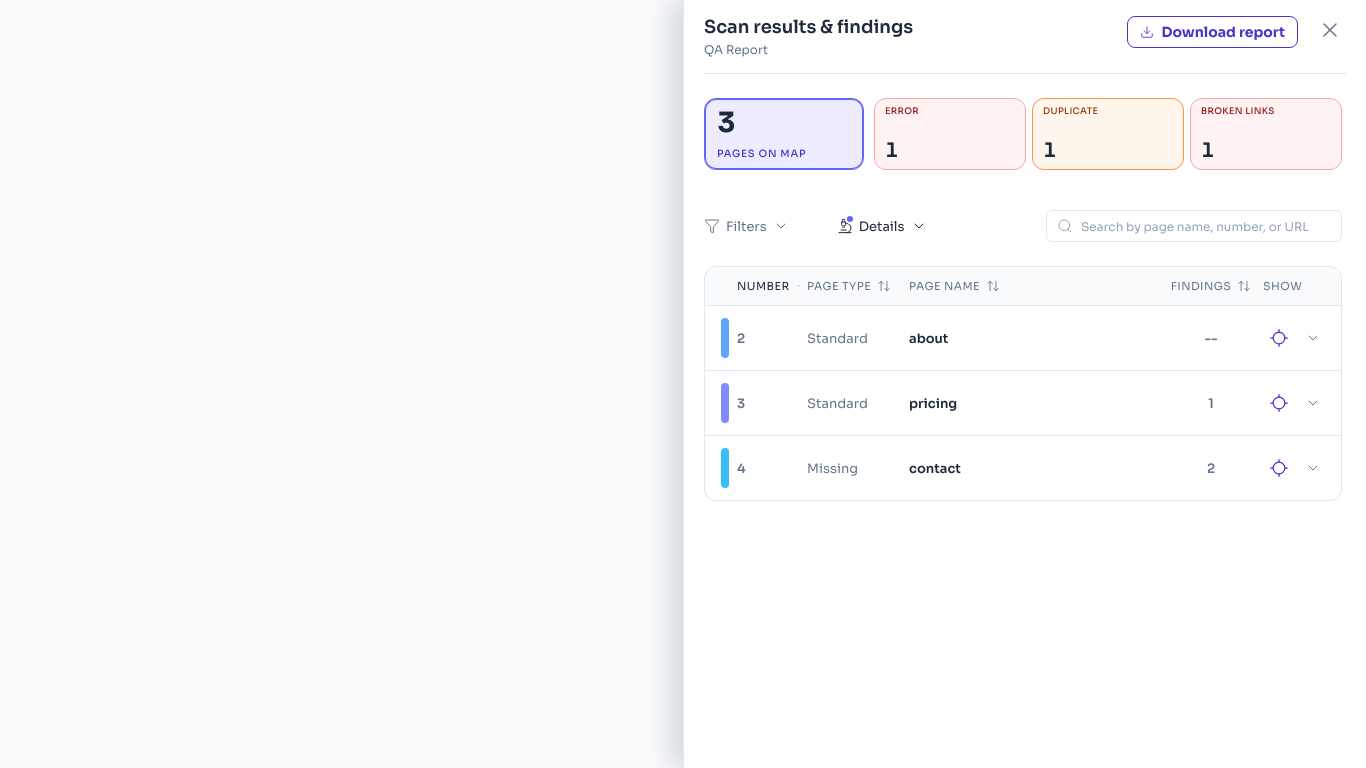
Test: ReportDrawer › filters image-backed rows from the shared filter menu
Click the button with class "report-filter-toggle" showing "Filters" at (746, 226), box [704,218,789,234]
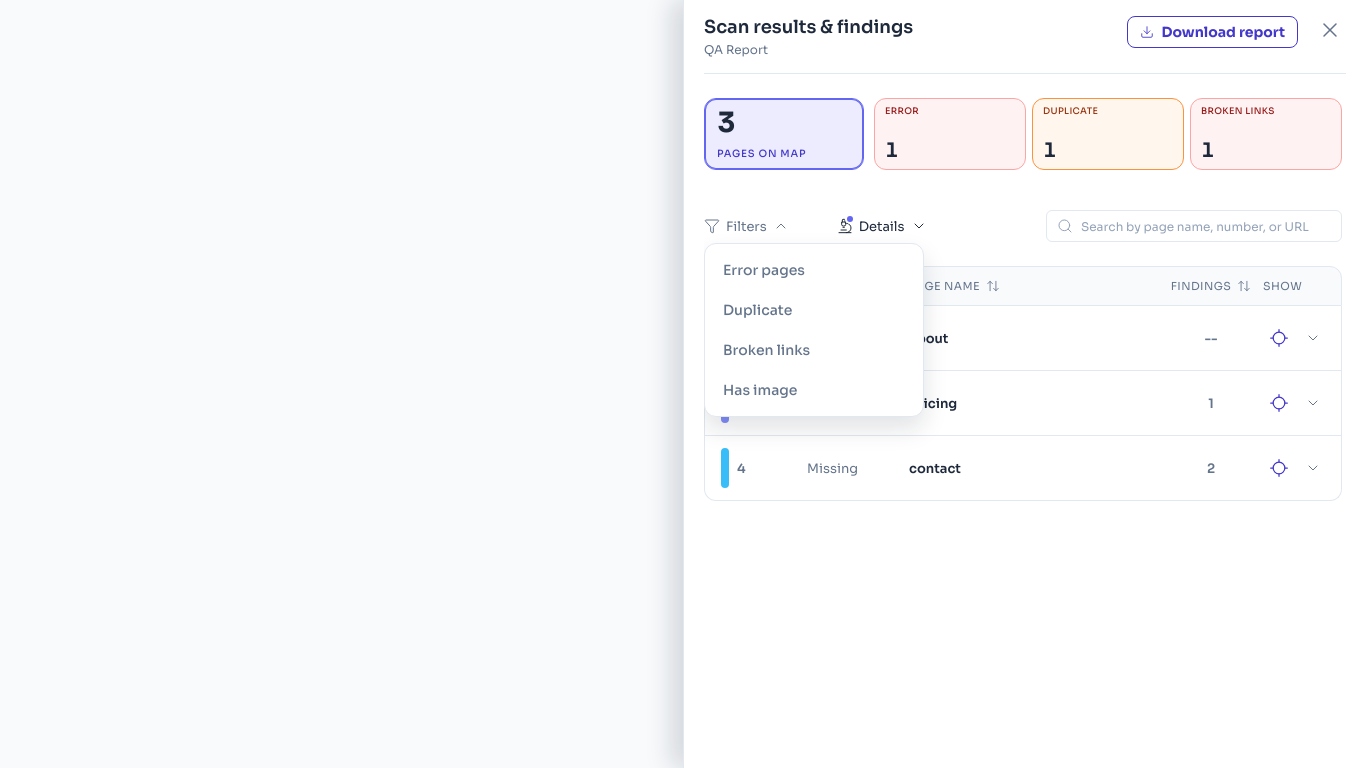
Click the menu item with class "report-filter-menu-item" showing "Has image" at (814, 390), box [713,372,915,408]
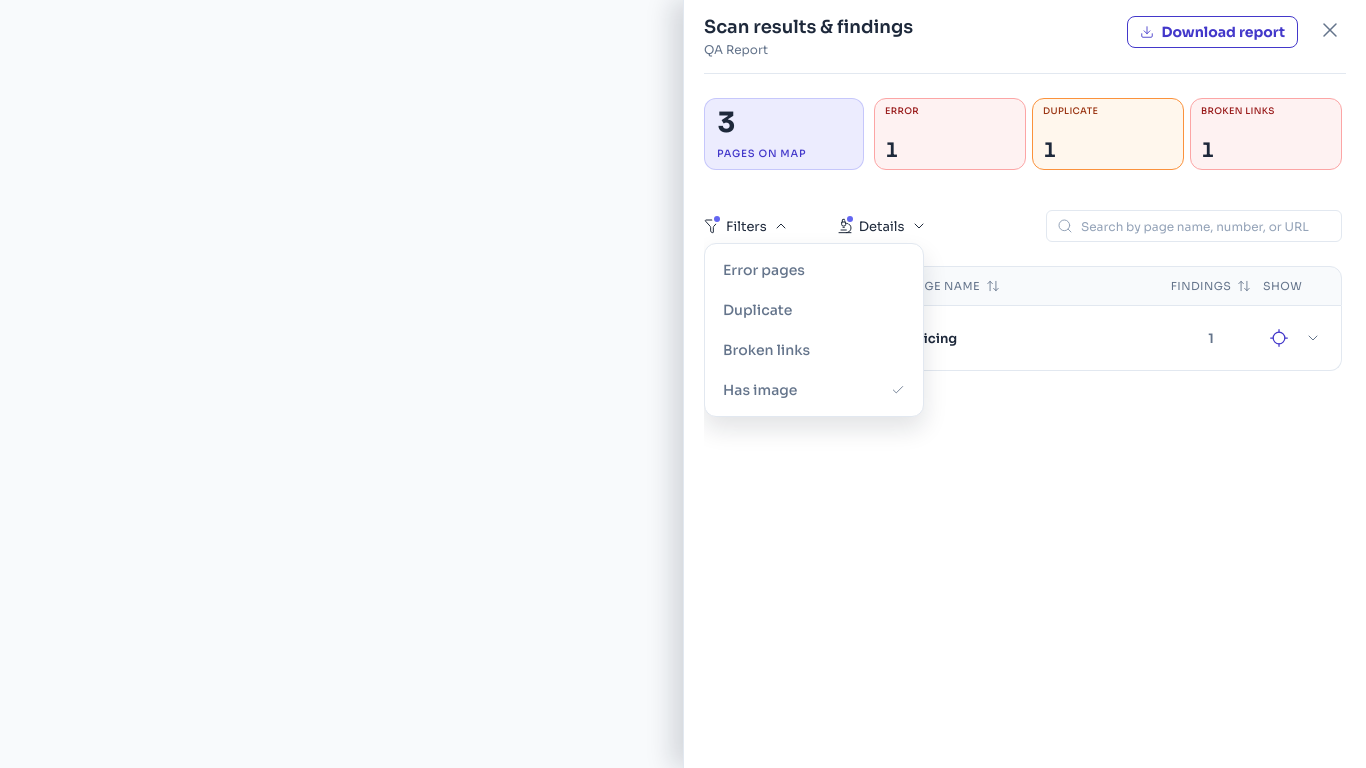
Expected: the element with class "ui-menu-item__end" is shown, [891,382,905,396]
Expected: the 1st element with class "report-filter-active-dot" is shown, [714,216,720,222]
